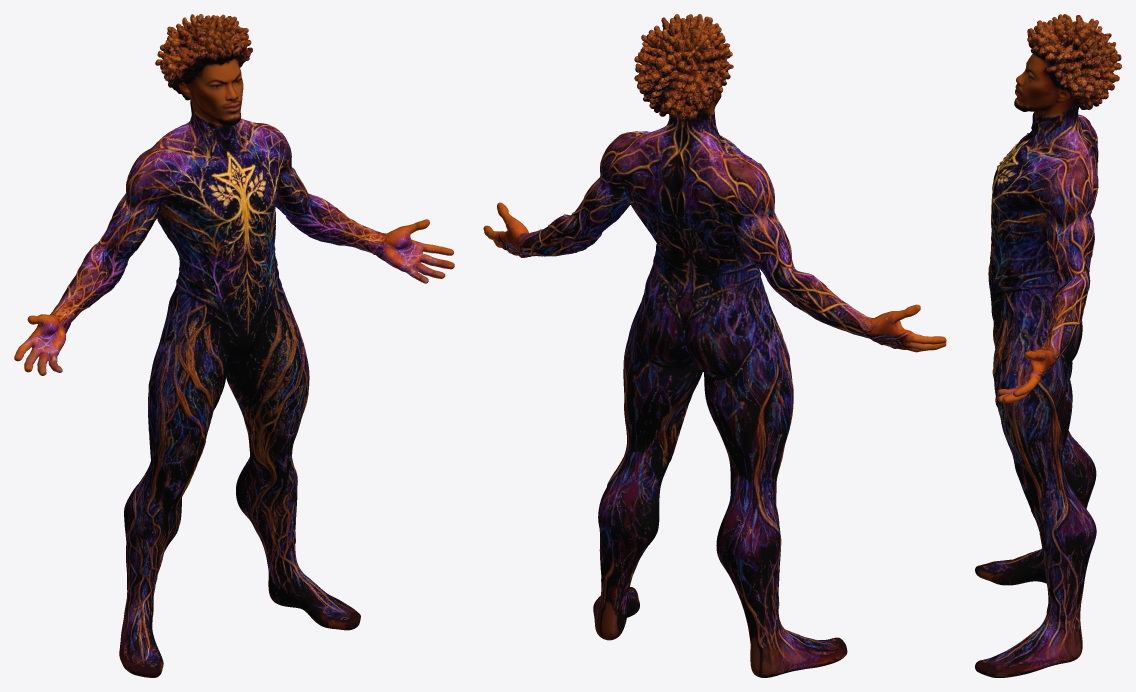
Rendered from Meshy_AI_Cosmic_Ascendant_0812022756_texture-optimized_ppeonk.glb.
The picture shows the model from 3 angles, left to right: view 1: azimuth 30°, elevation 25°; view 2: azimuth 150°, elevation 25°; view 3: azimuth 270°, elevation 25°; orthographic projection. The views are drawn at different scales.
Bounding box in the file's own units: 1.44 × 1.9 × 0.4153.
1 material, 1 textured.
